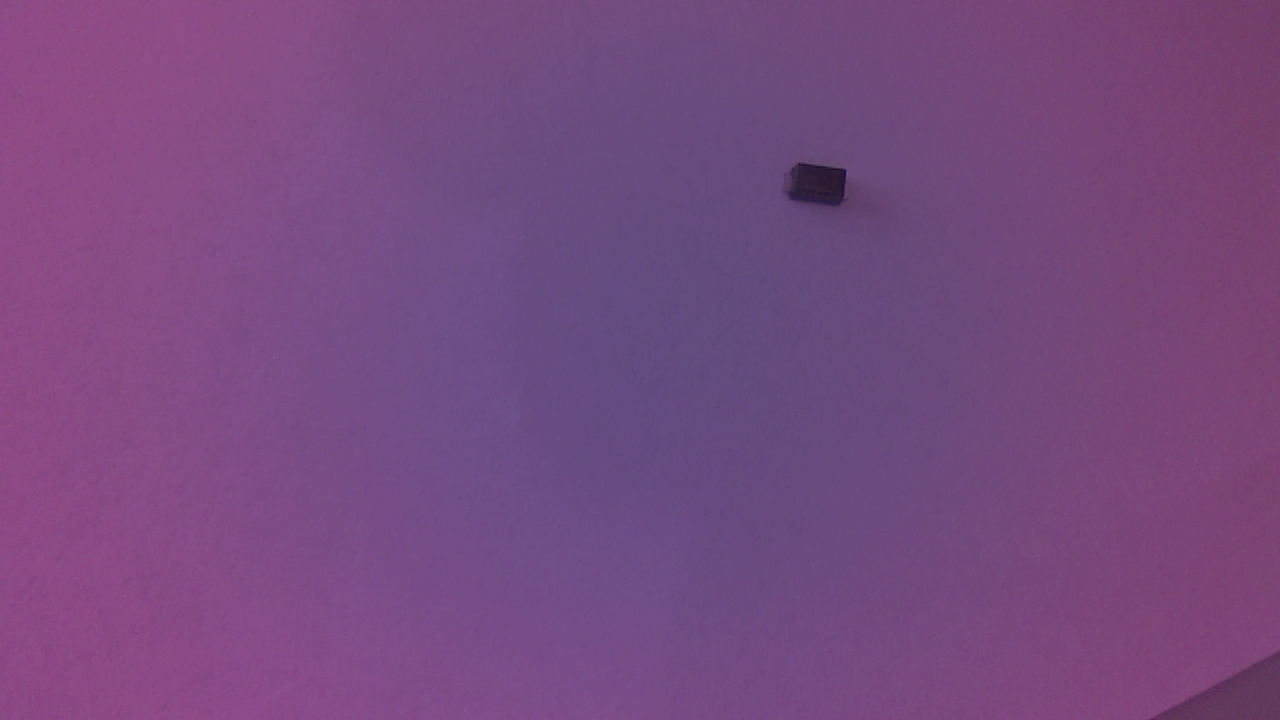Diode: (776, 162, 865, 215)
